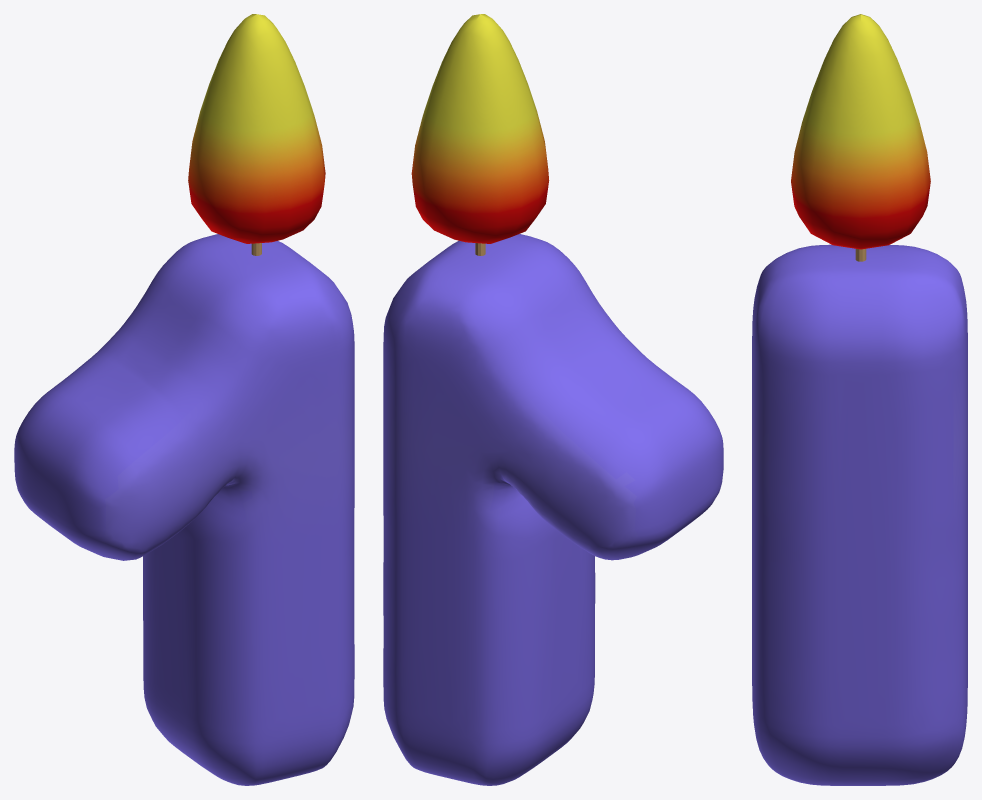
The model's file is candle_1.glb.
3 views of the same model, side by side, from view 1: azimuth 30°, elevation 25°; view 2: azimuth 150°, elevation 25°; view 3: azimuth 270°, elevation 25° (orthographic). The views are drawn at different scales.
Visible parts, largest first — view 1: candle_1, fire.001; view 2: candle_1, fire.001; view 3: candle_1, fire.001.
Boxes of the visible parts, box(x1,y1,x2,y2) form: candle_1: box(14, 234, 354, 785); fire.001: box(188, 14, 325, 243); candle_1: box(383, 234, 723, 785); fire.001: box(411, 14, 549, 243); candle_1: box(752, 244, 967, 785); fire.001: box(791, 14, 930, 249).
Size of the model in its own units: 0.3769 by 0.9369 by 0.242.
1 material, 1 textured.
